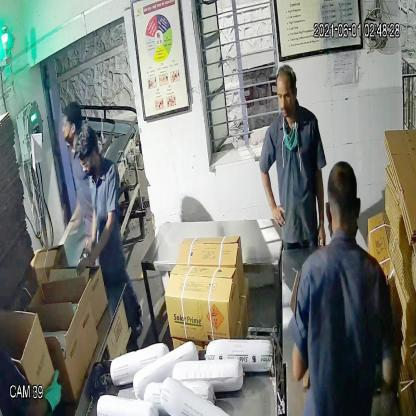no_goggles: (273, 86, 299, 105)
